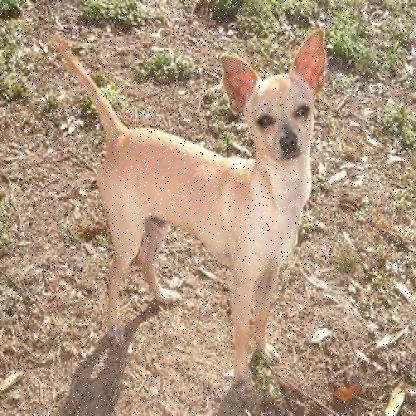dog: (52, 26, 336, 373)
